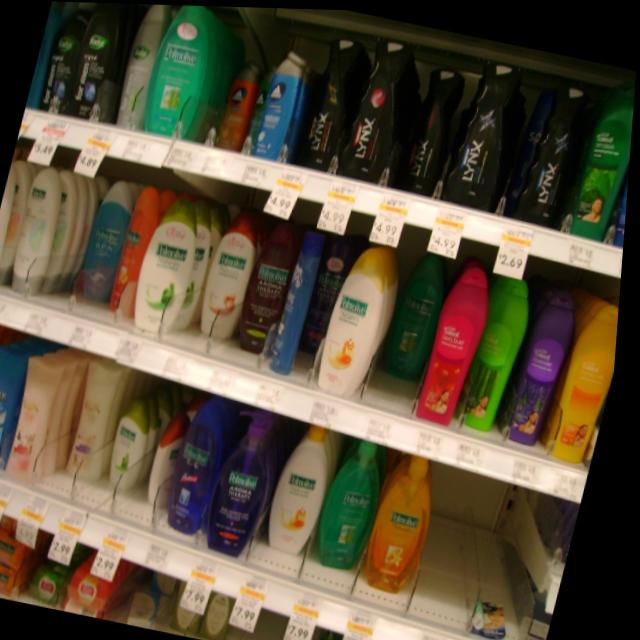q100: (118, 176, 219, 353), (98, 388, 173, 500)
